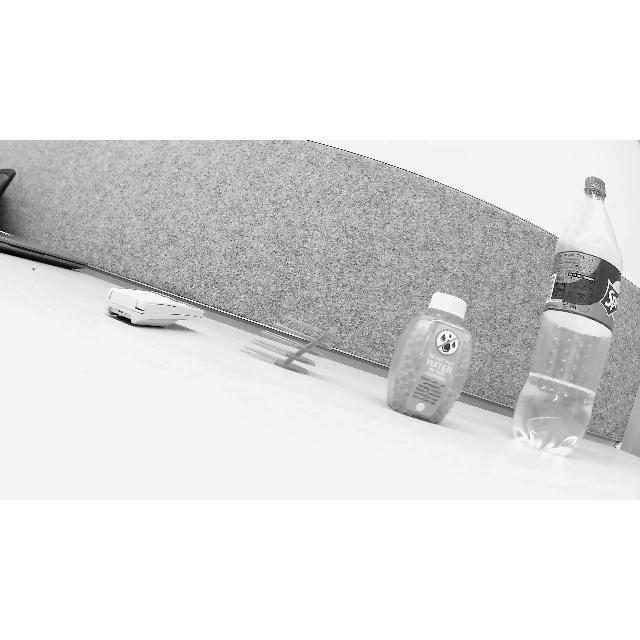targets: (512, 176, 624, 456), (388, 291, 476, 427), (242, 310, 332, 376), (102, 286, 206, 328)
